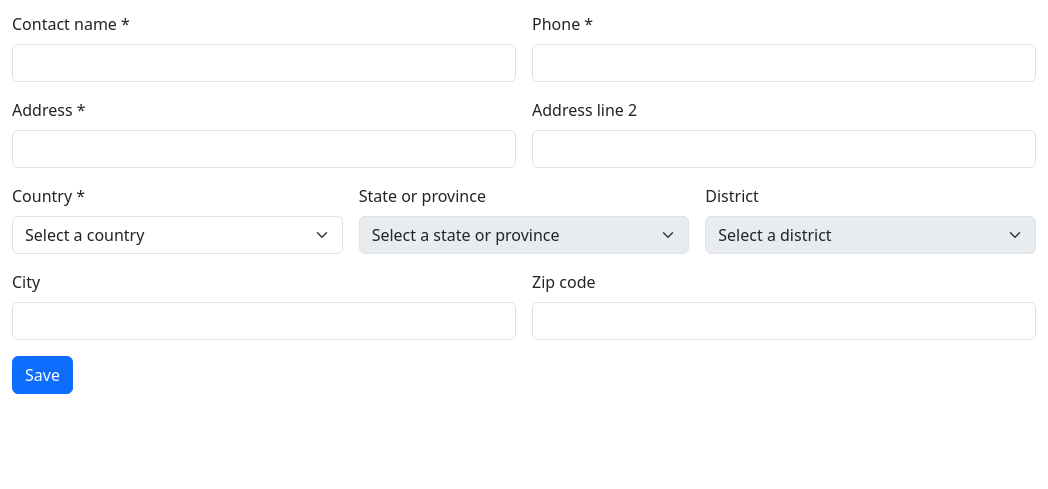
Scenario: AddressForm › does not submit without the required fields
Type "Customer Dev" into the field labelled "Contact name *" at (264,63), box [12,44,516,82]
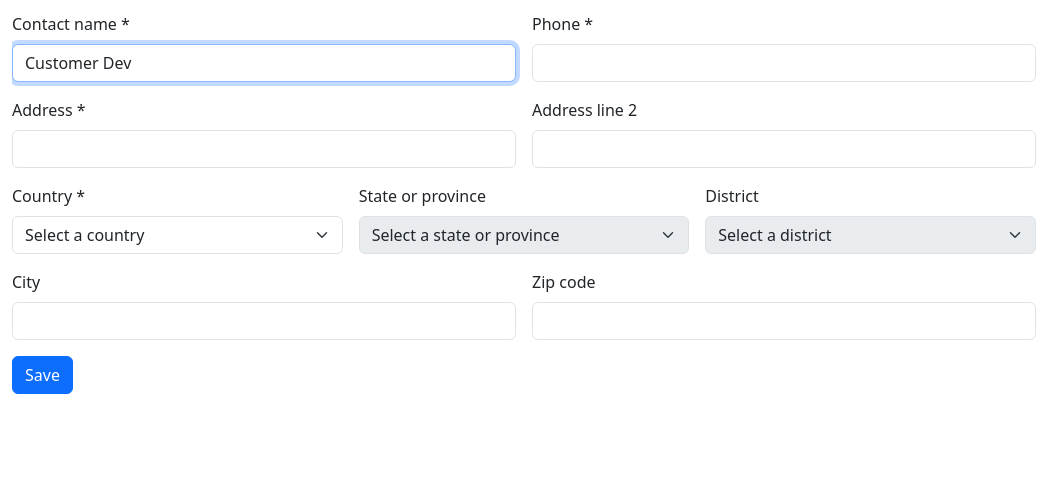
Click the button "Save" at (42,375), box [12,356,73,394]
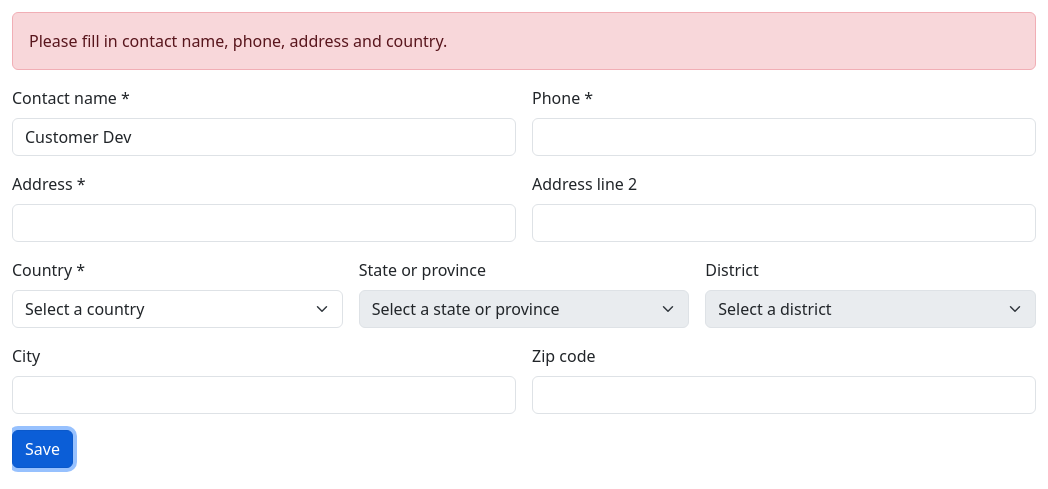
expect the text "Please fill in contact name, phone, address and country." is shown: met, box [12,12,1036,70]
